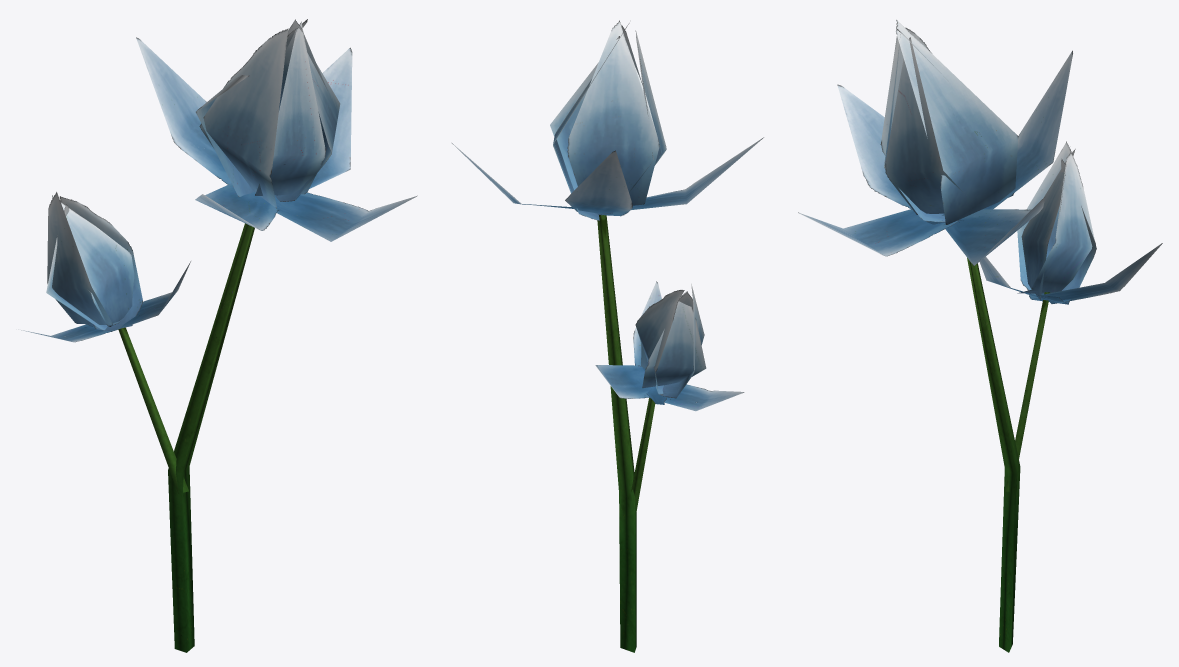
The model's file is flowers5.glb.
3 views of the same model, side by side, from view 1: azimuth 30°, elevation 25°; view 2: azimuth 150°, elevation 25°; view 3: azimuth 270°, elevation 25° (orthographic). The views are drawn at different scales.
Visible parts, largest first — view 1: flowers.005; view 2: flowers.005; view 3: flowers.005.
Boxes of the visible parts, <box> form: flowers.005: <box>18,19,417,652</box>; flowers.005: <box>452,20,763,652</box>; flowers.005: <box>798,20,1162,652</box>.
Size of the model in its own units: 0.3092 by 0.5805 by 0.2942.
Materials: 1 (1 with a texture image).
